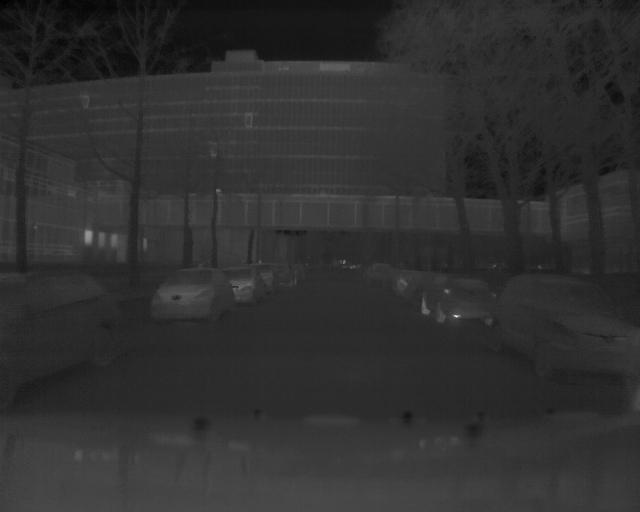car: (1, 269, 138, 393), (493, 274, 634, 388), (147, 262, 232, 337), (419, 273, 493, 335), (230, 266, 270, 309)
